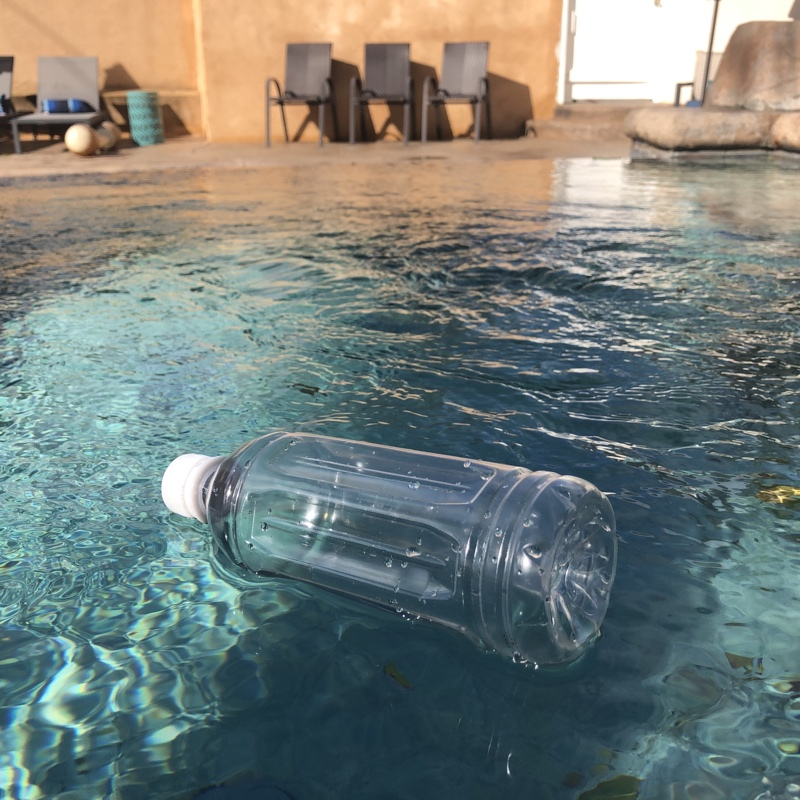Plastic Bottle: (151, 426, 625, 680)
